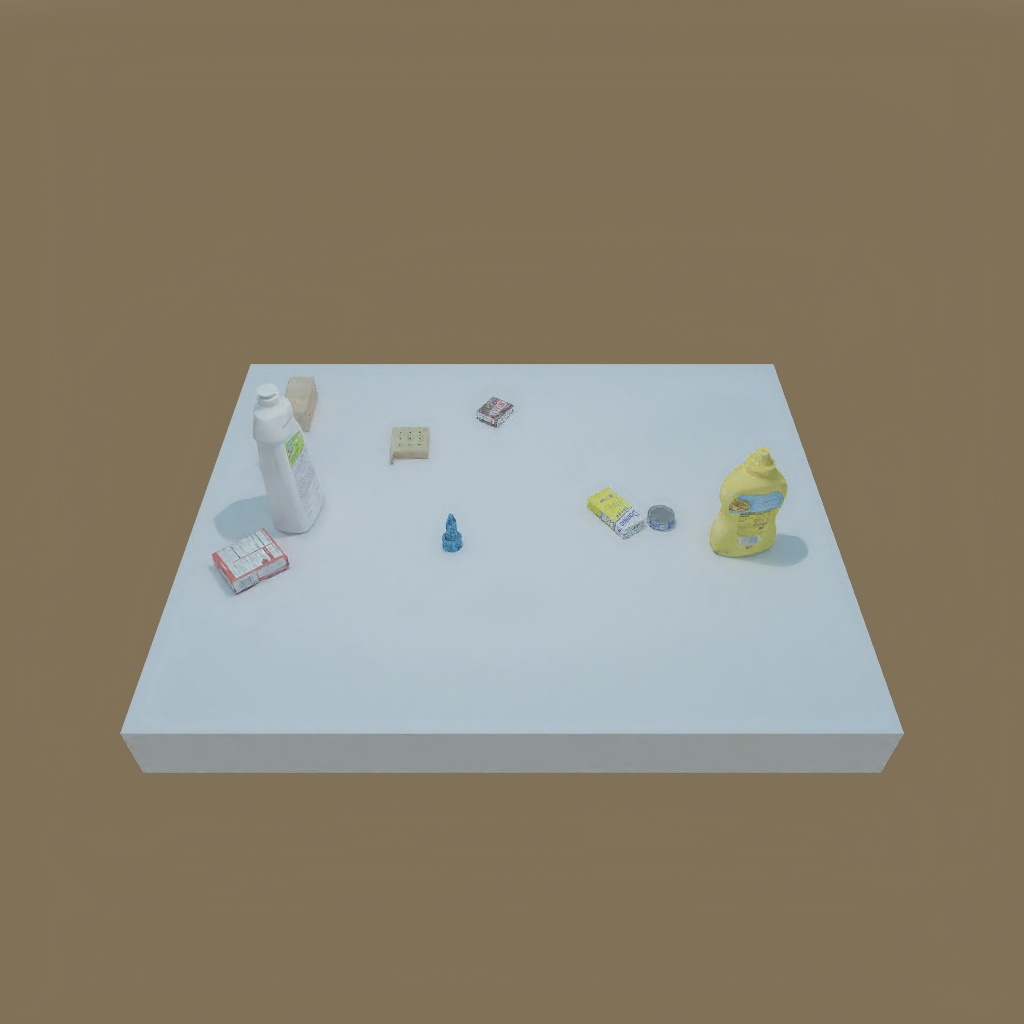gelatin_box: (216, 532, 289, 588)
mustard_bottle: (709, 447, 779, 559)
nine_hole_peg_test: (381, 422, 435, 467)
pudding_box: (473, 394, 516, 432)
wood_block: (278, 370, 319, 438)
